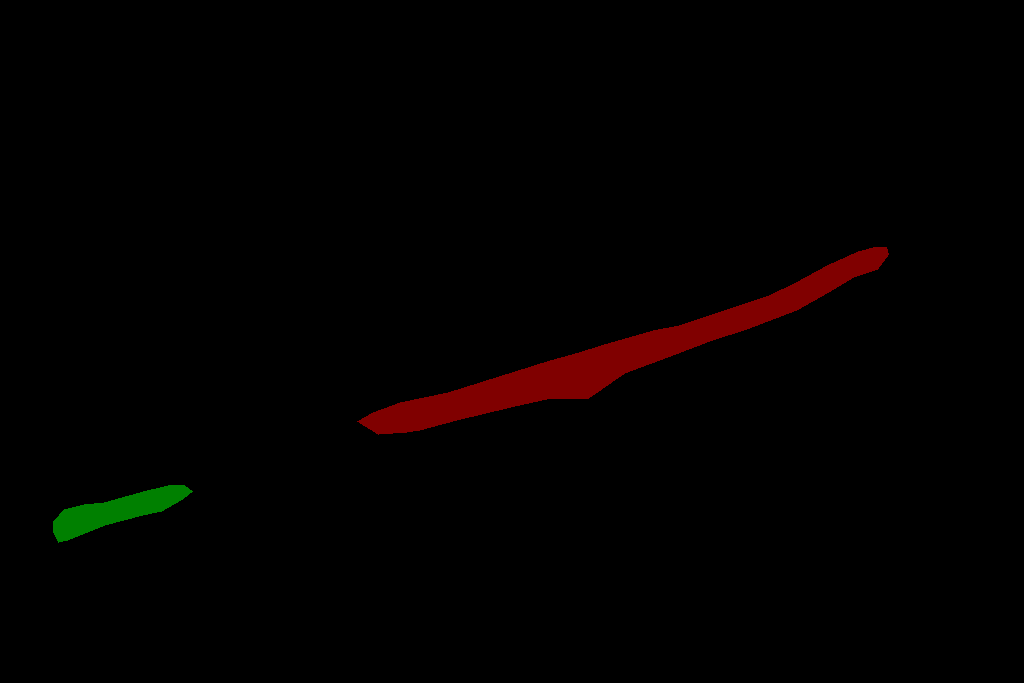fire: (357, 247, 888, 434), (53, 485, 192, 542)
